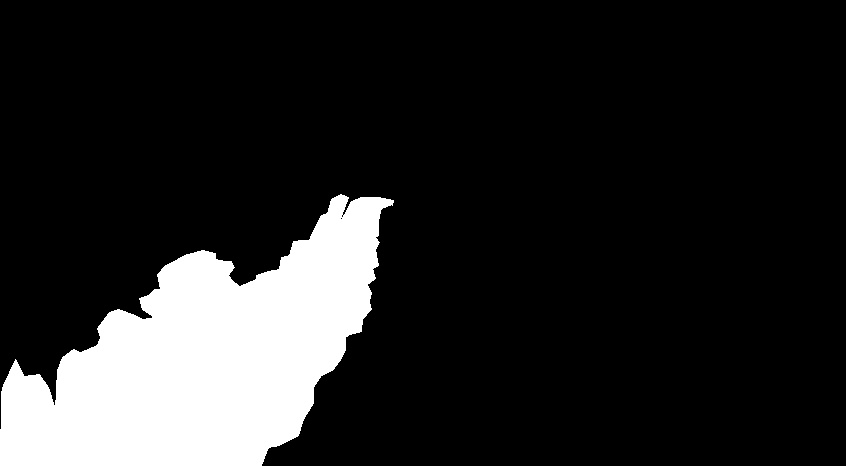Fire: (62, 192, 396, 466)
